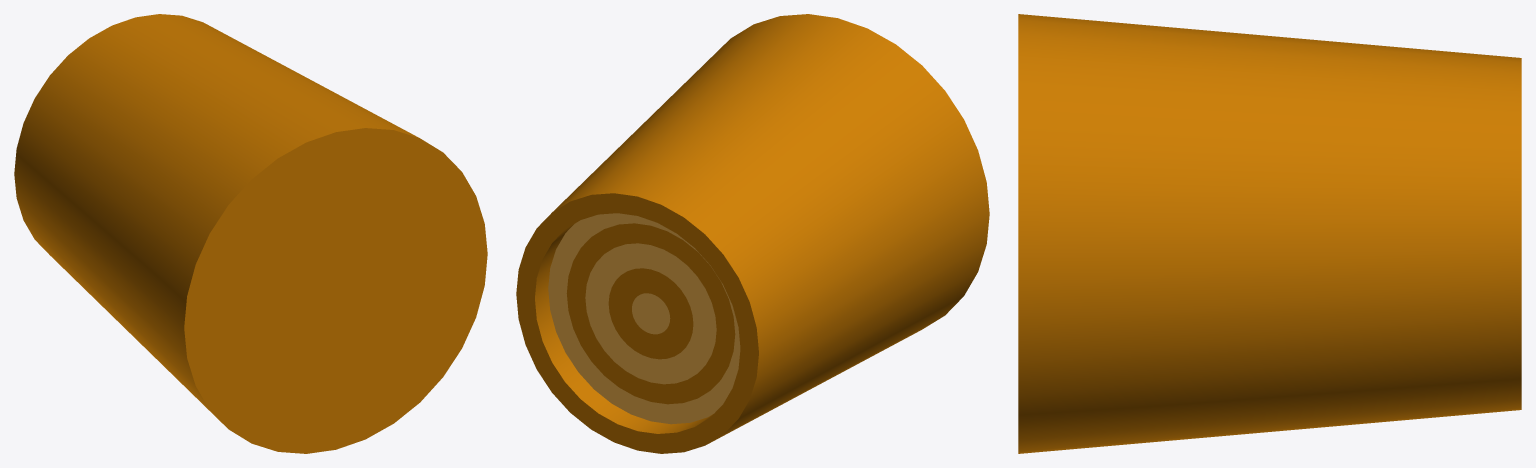
The model's file is TreeTrunk.fbx.
The picture shows the model from 3 angles, left to right: view 1: azimuth 30°, elevation 25°; view 2: azimuth 150°, elevation 25°; view 3: azimuth 270°, elevation 25°; orthographic projection. The views are drawn at different scales.
Visible parts, largest first — view 1: Cylinder; view 2: Cylinder; view 3: Cylinder.
Part boxes in pixels (x1,y1,x2,y2): Cylinder: (14, 14, 487, 453); Cylinder: (516, 14, 989, 453); Cylinder: (1018, 14, 1521, 453).
Bounding box in the file's own units: 1.31 × 1.31 × 1.5.
